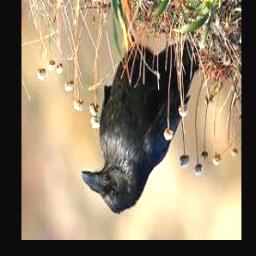Crow: (82, 38, 199, 216)
